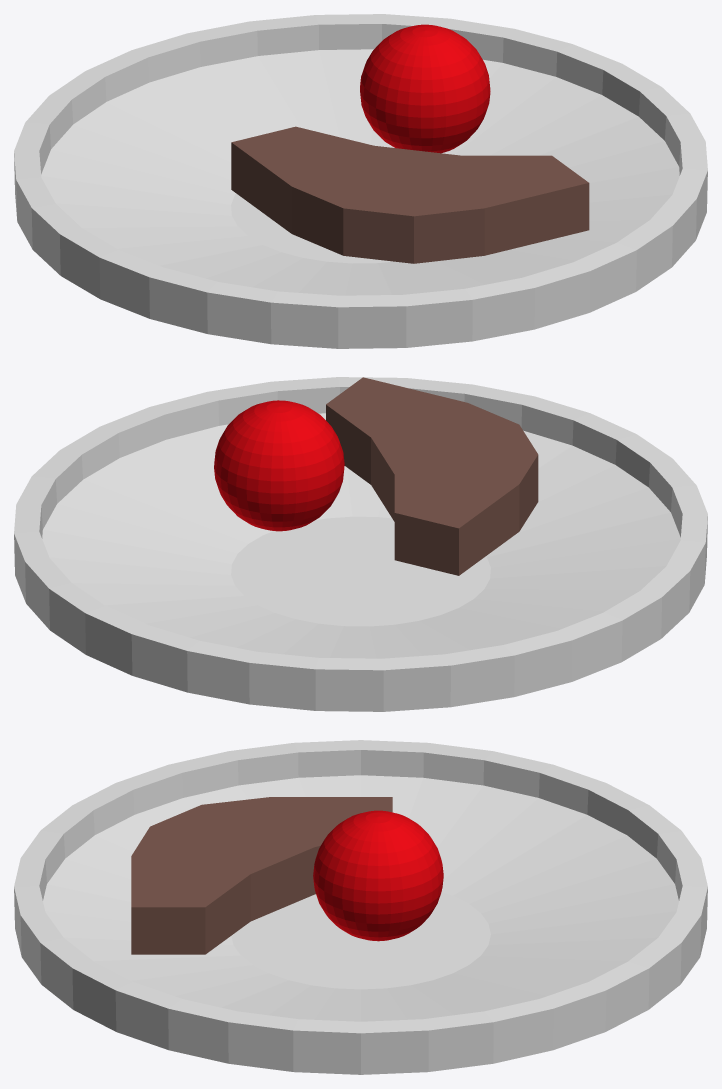
The model's file is Food.glb.
3 views of the same model, one above another, from view 1: azimuth 30°, elevation 25°; view 2: azimuth 150°, elevation 25°; view 3: azimuth 270°, elevation 25° (orthographic).
Visible parts, largest first — view 1: Plate Collisons -convcolony, Steak Vis, Apple Vis; view 2: Plate Collisons -convcolony, Steak Vis, Apple Vis; view 3: Plate Collisons -convcolony, Steak Vis, Apple Vis.
Part boxes in pixels (x1,y1,x2,y2): Plate Collisons -convcolony: (14,14,707,348); Steak Vis: (231,126,589,263); Apple Vis: (360,24,490,153); Plate Collisons -convcolony: (14,377,707,711); Steak Vis: (326,377,538,575); Apple Vis: (214,400,344,531); Plate Collisons -convcolony: (14,740,707,1074); Steak Vis: (131,797,392,954); Apple Vis: (313,810,443,941).
Size of what is drawn, in the model's own units: 5.31 by 1.54 by 5.31.
